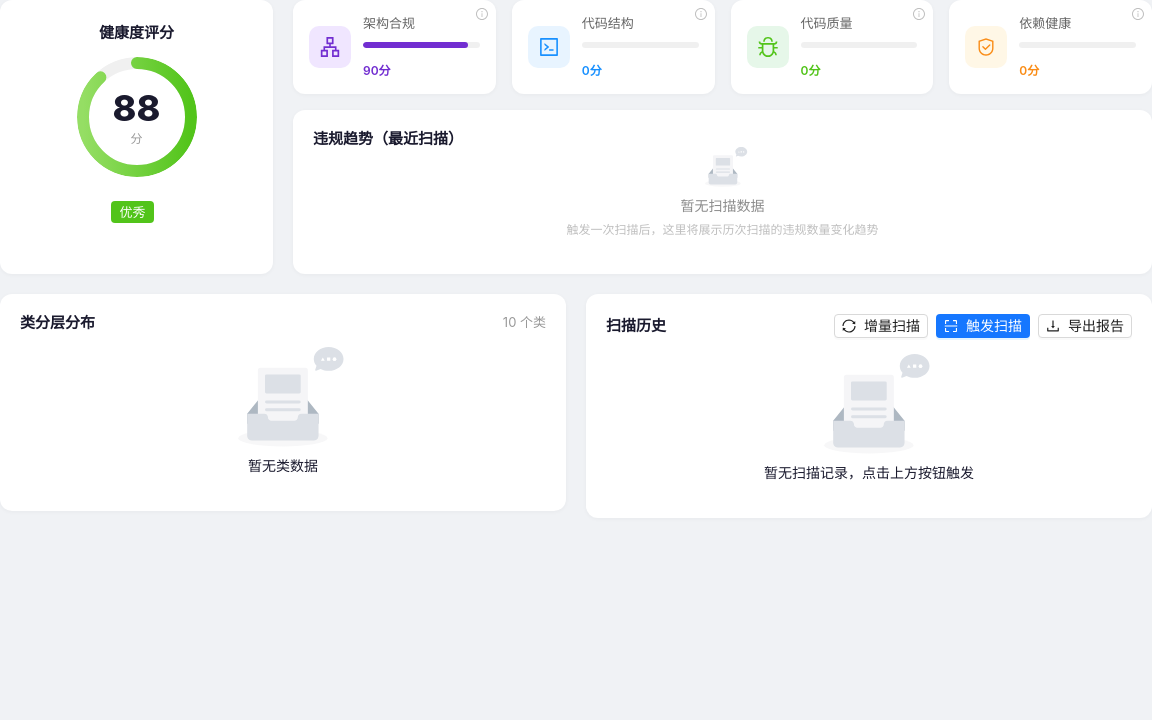
Test: ProjectOverview › subscribeScanProgress_whenStreamOpen_shouldRenderIntermediateStage
Click the button "触发扫描" at (983, 326), box [936, 314, 1030, 338]
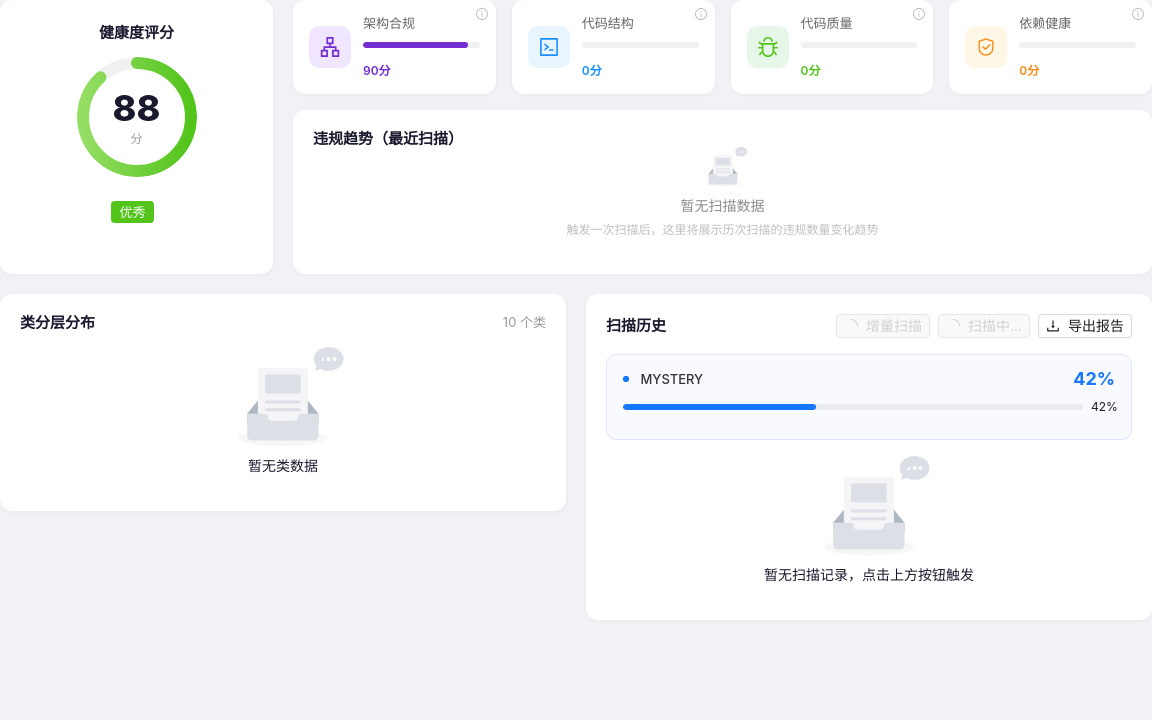
Check: the element showing "MYSTERY 42% 42%" is shown, box [606, 354, 1132, 440]
Check: the element showing "MYSTERY" is shown, box [623, 371, 703, 387]
Check: the text "42%" in the row of "MYSTERY" is shown, box [1073, 368, 1115, 389]
